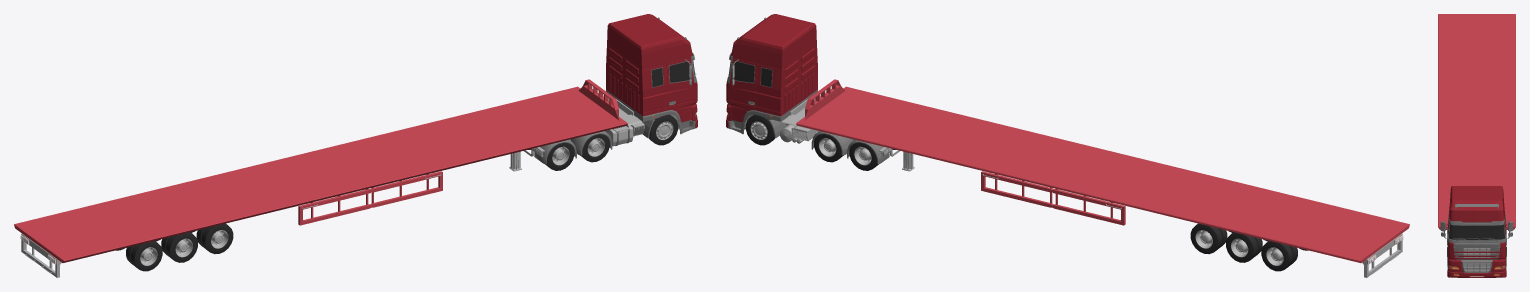
Rendered from sm_cgc_red_wuxiang_dm.fbx.
3 renders of one model, left to right at view 1: azimuth 30°, elevation 25°; view 2: azimuth 150°, elevation 25°; view 3: azimuth 270°, elevation 25°, orthographic. The views are drawn at different scales.
Parts seen in each view (by area): view 1: sm_cgc_red_wuxiang_dm_no_logo; view 2: sm_cgc_red_wuxiang_dm_no_logo; view 3: sm_cgc_red_wuxiang_dm_no_logo.
Boxes of the visible parts, <box> form: sm_cgc_red_wuxiang_dm_no_logo: <box>14,14,697,277</box>; sm_cgc_red_wuxiang_dm_no_logo: <box>726,14,1409,277</box>; sm_cgc_red_wuxiang_dm_no_logo: <box>1438,14,1515,277</box>.
Bounding box in the file's own units: 25.16 × 3.8 × 3.39.
1 material, 1 textured.
